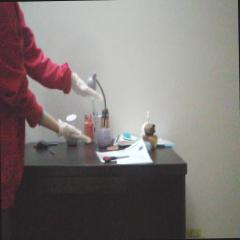gloved: (59, 118, 90, 147), (72, 72, 102, 100)
